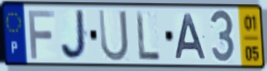3: (209, 7, 237, 67)
A: (174, 12, 209, 61)
F: (26, 8, 57, 61)
J: (59, 8, 90, 62)
L: (134, 10, 162, 63)
U: (96, 8, 131, 63)
